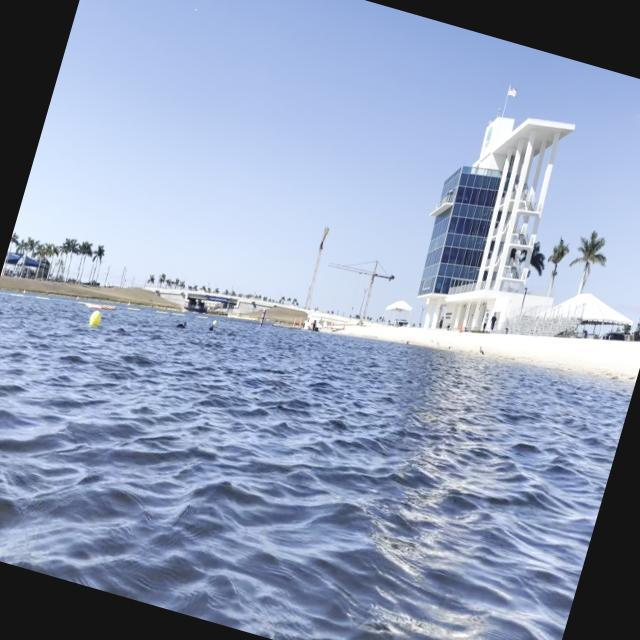buoy: (88, 309, 102, 328)
